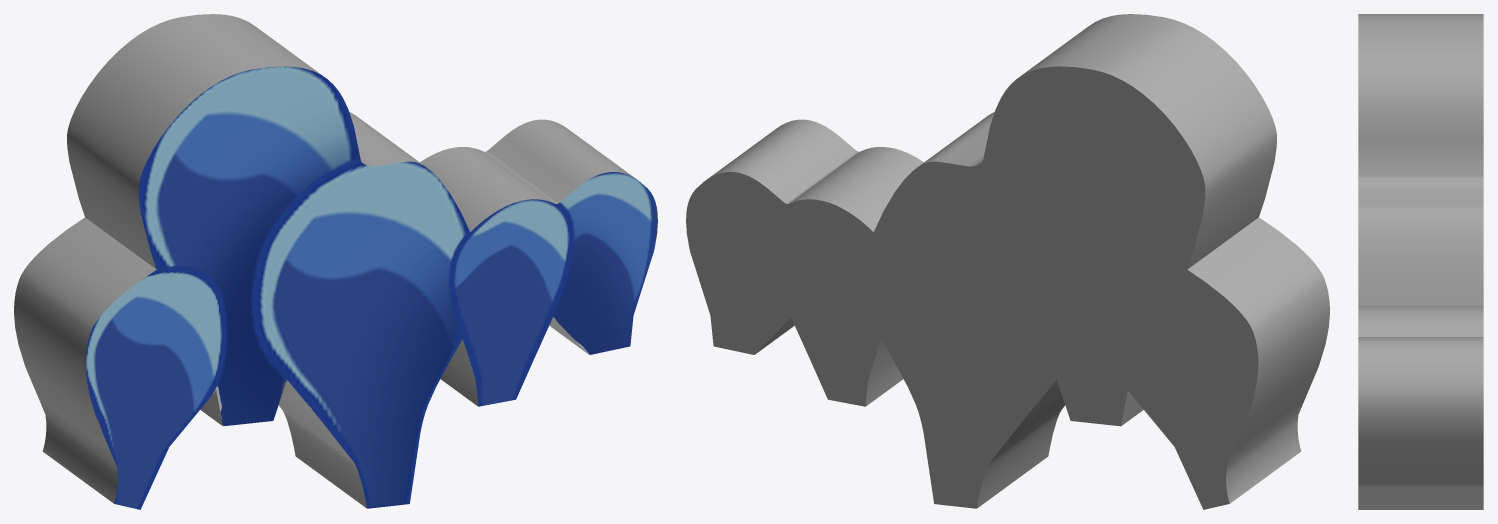
3 renders of one model, left to right at view 1: azimuth 30°, elevation 25°; view 2: azimuth 150°, elevation 25°; view 3: azimuth 270°, elevation 25°, orthographic. The views are drawn at different scales.
Parts seen in each view (by area): view 1: 挤压_1; view 2: 挤压_1; view 3: 挤压_1.
Part boxes in pixels (x1,y1,x2,y2): 挤压_1: (14, 14, 657, 509); 挤压_1: (686, 14, 1329, 509); 挤压_1: (1358, 14, 1483, 509).
Size of the model in its own units: 797 by 629 by 173.
